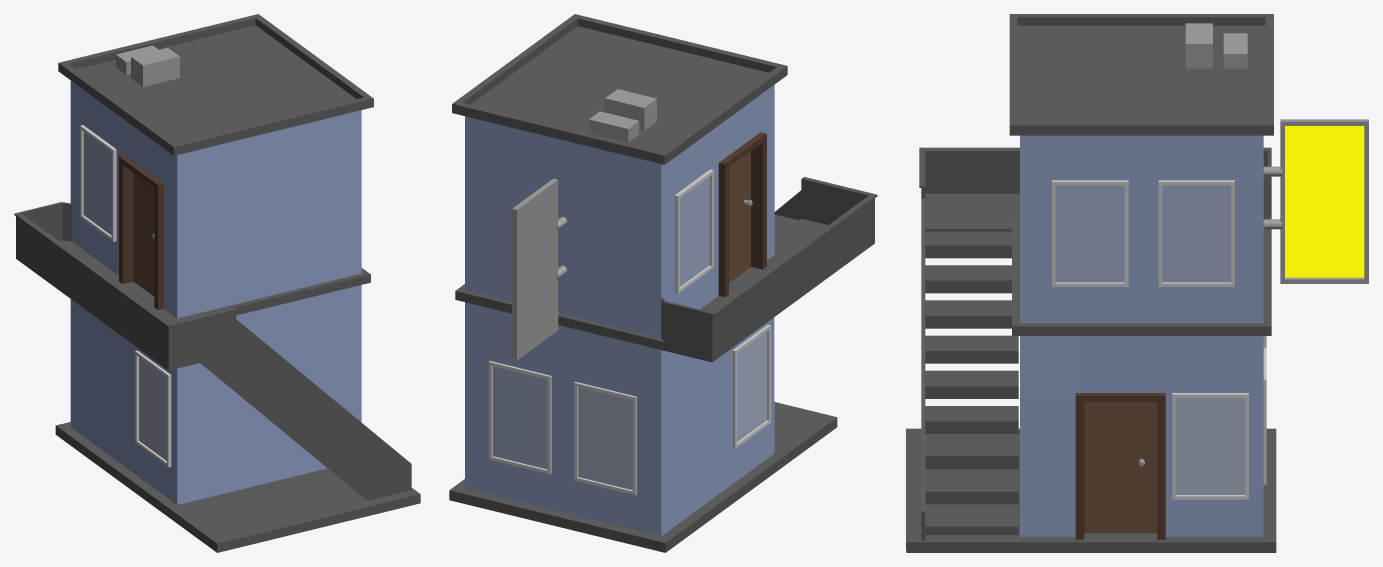
File: PortBuilding_2.glb
The picture shows the model from 3 angles, left to right: view 1: azimuth 30°, elevation 25°; view 2: azimuth 150°, elevation 25°; view 3: azimuth 270°, elevation 25°; orthographic projection. The views are drawn at different scales.
Visible parts, largest first — view 1: Cube; view 2: Cube; view 3: Cube, Stairs.
Part boxes in pixels (bbox=[...]): Cube: bbox=[14, 14, 420, 552]; Cube: bbox=[449, 14, 877, 552]; Cube: bbox=[906, 14, 1368, 552]; Stairs: bbox=[925, 231, 1018, 534].
Size of the model in its own units: 6.52 by 9.76 by 9.25.
